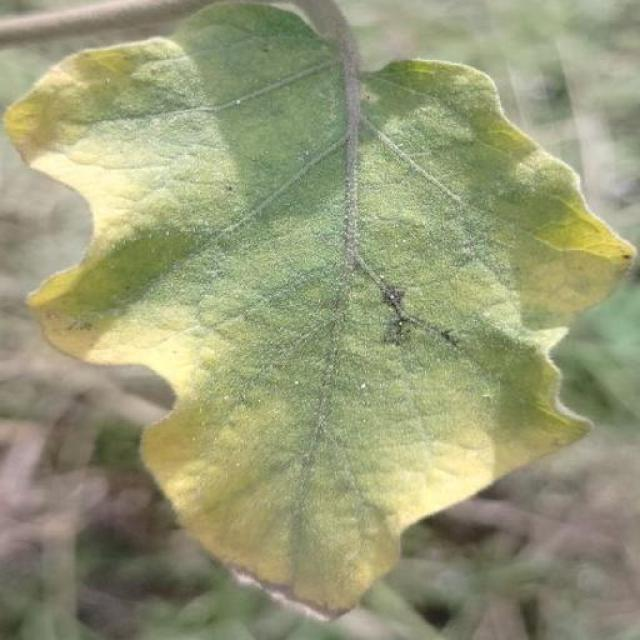leaf_spot: (38, 273, 419, 625), (10, 114, 153, 322), (521, 130, 640, 370), (435, 326, 608, 491), (380, 43, 562, 165), (360, 447, 510, 536), (3, 57, 112, 153), (371, 276, 468, 368), (449, 265, 558, 342), (62, 36, 192, 80)
